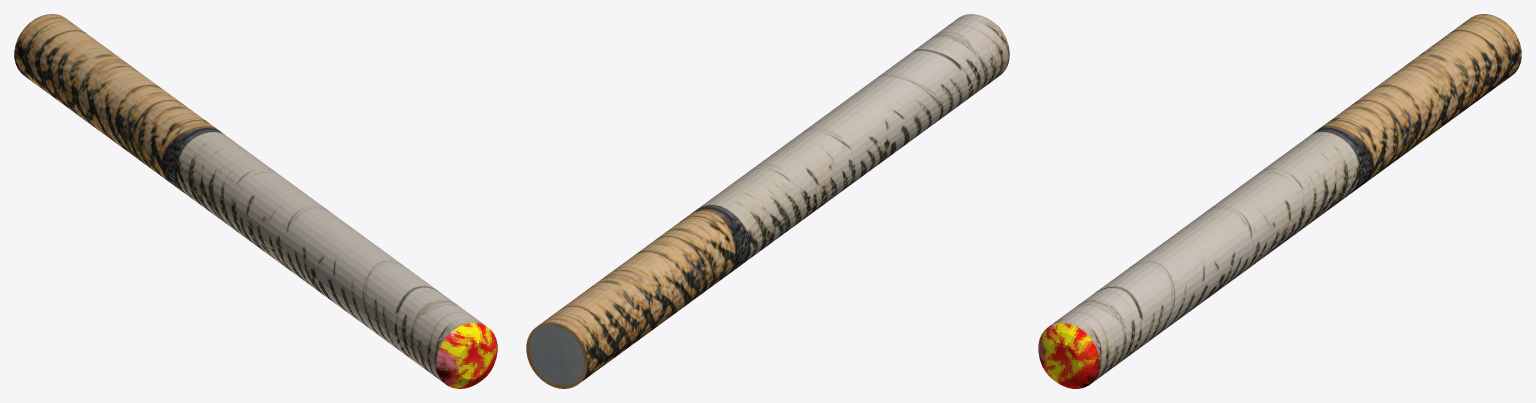
The model's file is ciggie.glb.
The picture shows the model from 3 angles, left to right: view 1: azimuth 30°, elevation 25°; view 2: azimuth 150°, elevation 25°; view 3: azimuth 330°, elevation 25°; orthographic projection.
Parts seen in each view (by area): view 1: Cylinder; view 2: Cylinder; view 3: Cylinder.
Part boxes in pixels (x1,y1,x2,y2): Cylinder: (14,14,497,388); Cylinder: (526,14,1009,388); Cylinder: (1038,14,1521,388).
Size of the model in its own units: 0.2068 by 0.2068 by 2.5.
4 materials, 4 textured.
